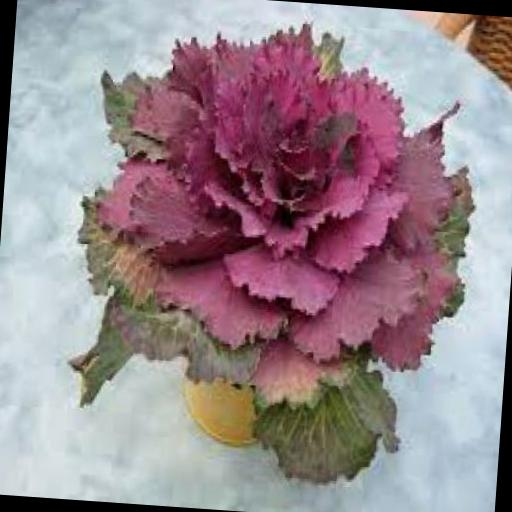biodegradable: (62, 6, 481, 492)
